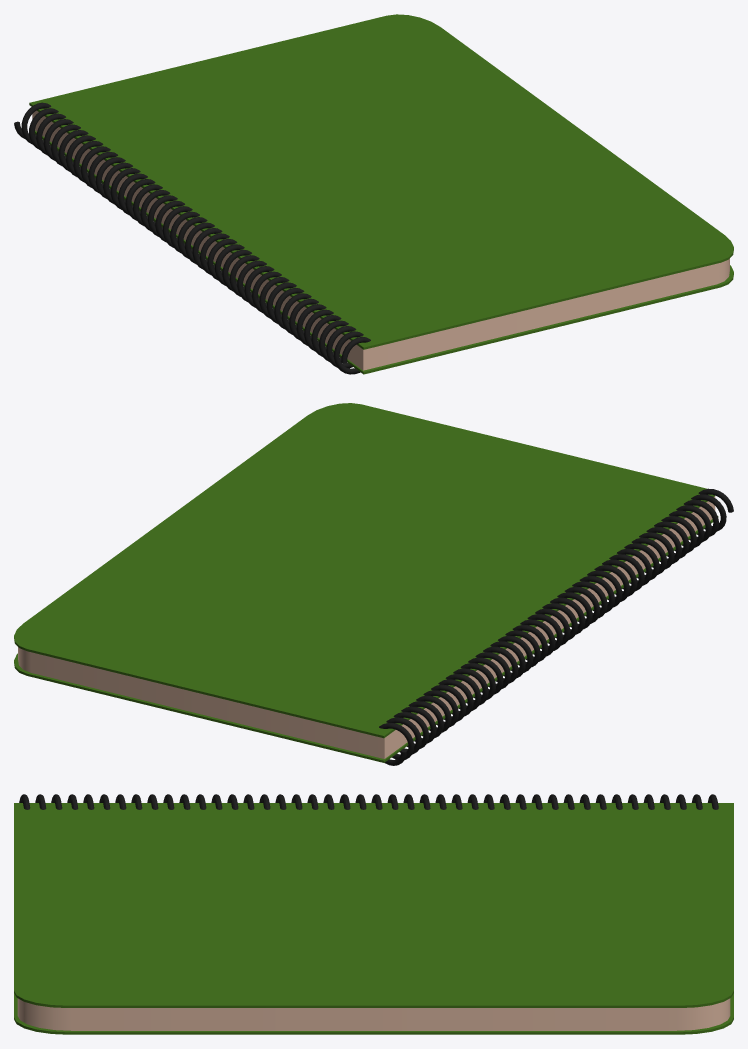
File: LedgerClosed.glb
3 renders of one model, top to bottom at view 1: azimuth 30°, elevation 25°; view 2: azimuth 150°, elevation 25°; view 3: azimuth 270°, elevation 25°, orthographic. The views are drawn at different scales.
Parts seen in each view (by area): view 1: Cube.002; view 2: Cube.002; view 3: Cube.002.
Boxes of the visible parts, bbox=[...] form: Cube.002: bbox=[14, 14, 733, 374]; Cube.002: bbox=[14, 403, 733, 765]; Cube.002: bbox=[14, 794, 733, 1034].
Bounding box in the file's own units: 0.3145 × 0.029 × 0.45.
